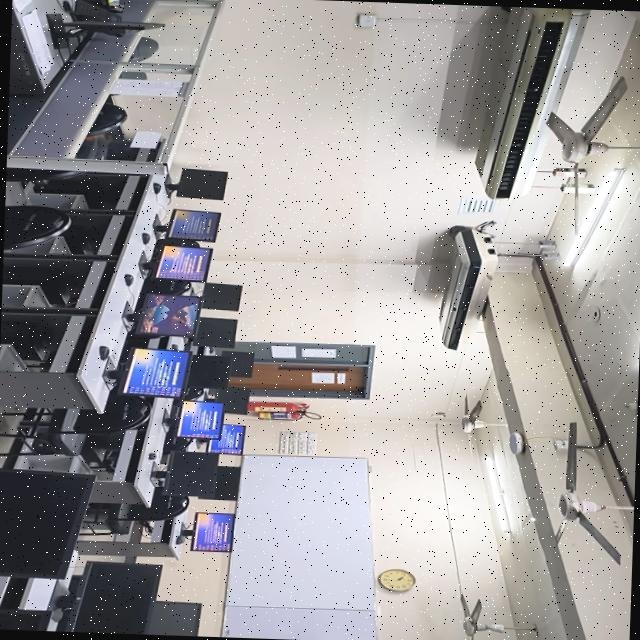Ac: (474, 6, 586, 200), (438, 221, 497, 350)
Chair: (0, 393, 150, 455), (83, 494, 188, 534), (2, 205, 70, 250), (4, 168, 83, 206), (86, 103, 125, 137), (129, 37, 158, 62)
Cpu: (1, 262, 85, 305), (33, 174, 125, 209), (0, 315, 65, 359), (61, 215, 107, 252)
Fire Extinguisher: (247, 402, 320, 420)
Light: (562, 168, 624, 266), (484, 456, 510, 533)
Monitor: (0, 468, 93, 578), (47, 561, 160, 634), (47, 14, 163, 49), (118, 349, 190, 397), (132, 294, 200, 336), (161, 451, 217, 497), (153, 209, 219, 242), (153, 246, 209, 281), (145, 601, 200, 636), (164, 168, 226, 199), (189, 512, 233, 552), (176, 401, 221, 438), (198, 466, 239, 500), (187, 355, 229, 388), (192, 317, 236, 348), (0, 608, 52, 631), (205, 424, 244, 454), (201, 282, 241, 311), (214, 386, 248, 414), (221, 350, 252, 377)
Mouse: (98, 346, 109, 360), (174, 534, 186, 544), (123, 274, 132, 286), (141, 232, 149, 244), (153, 182, 160, 194), (148, 453, 156, 460)
